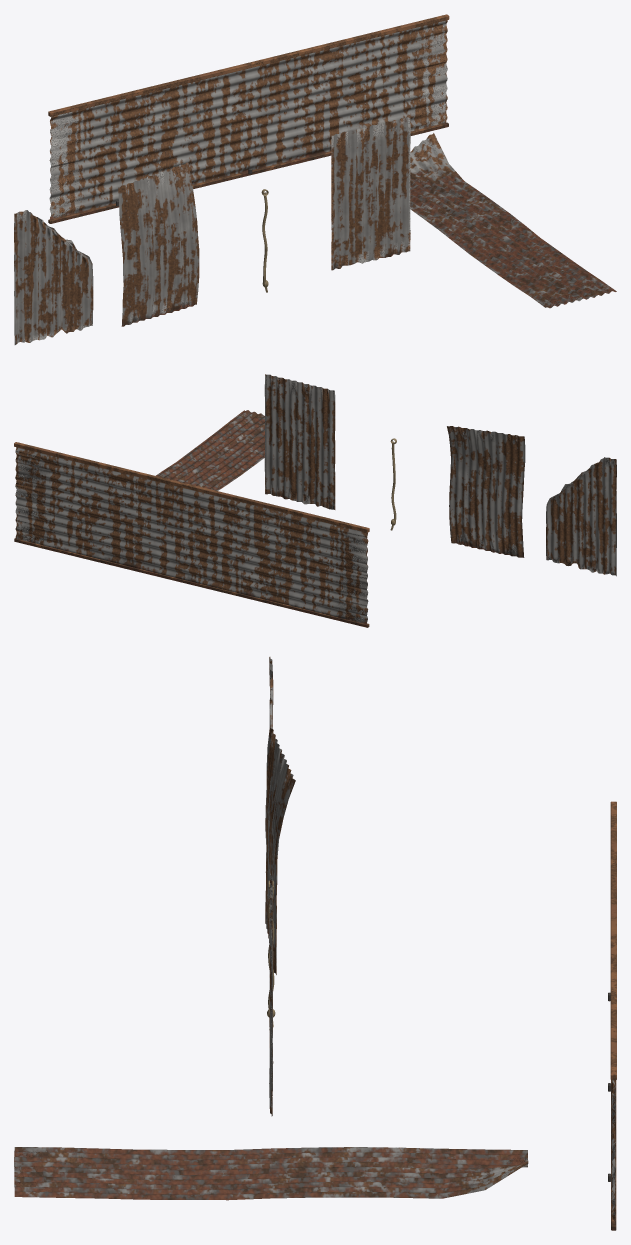
Rendered from CorrugatedPanels.fbx.
The picture shows the model from 3 angles, top to bottom: view 1: azimuth 30°, elevation 25°; view 2: azimuth 150°, elevation 25°; view 3: azimuth 270°, elevation 25°; orthographic projection. The views are drawn at different scales.
Visible parts, largest first — view 1: ShutterDoor, TinRoofPanel, TinWallPanel, TinWallPanel_Bent, TinWallPanel_Torn; view 2: ShutterDoor, TinWallPanel_Bent, TinWallPanel, TinWallPanel_Torn, TinRoofPanel; view 3: TinRoofPanel, TinWallPanel_Bent, ShutterDoor, TinWallPanel.
Part boxes in pixels (x1,y1,x2,y2): ShutterDoor: [48, 14, 449, 223]; TinRoofPanel: [410, 133, 616, 308]; TinWallPanel: [331, 116, 410, 270]; TinWallPanel_Bent: [118, 162, 199, 326]; TinWallPanel_Torn: [14, 210, 93, 344]; ShutterDoor: [14, 442, 369, 627]; TinWallPanel_Bent: [447, 426, 525, 557]; TinWallPanel: [264, 374, 335, 509]; TinWallPanel_Torn: [546, 457, 616, 576]; TinRoofPanel: [155, 410, 264, 490]; TinRoofPanel: [14, 1147, 528, 1200]; TinWallPanel_Bent: [265, 727, 295, 974]; ShutterDoor: [608, 801, 616, 1230]; TinWallPanel: [269, 873, 273, 1116].
Bounding box in the file's own units: 1179 × 287 × 789.
1 material, 1 textured.
